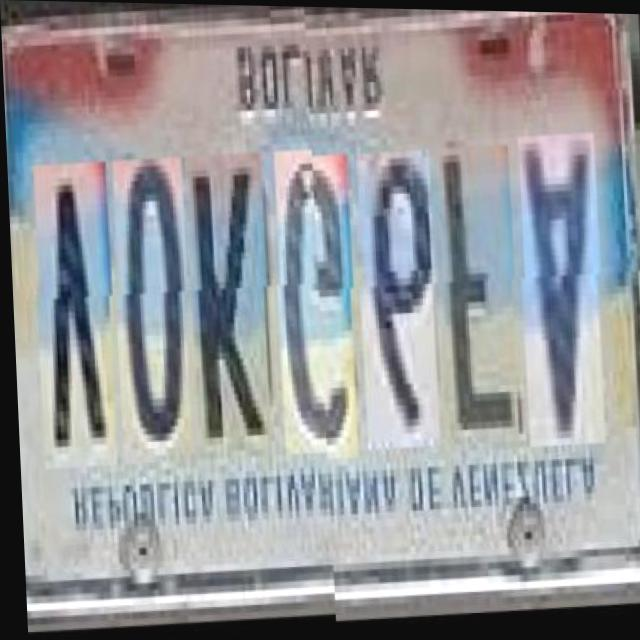6: (355, 147, 440, 449)
a: (517, 132, 605, 448)
f: (438, 144, 519, 452)
g: (273, 151, 357, 459)
k: (187, 155, 272, 463)
o: (110, 159, 192, 467)
v: (32, 162, 117, 470)
